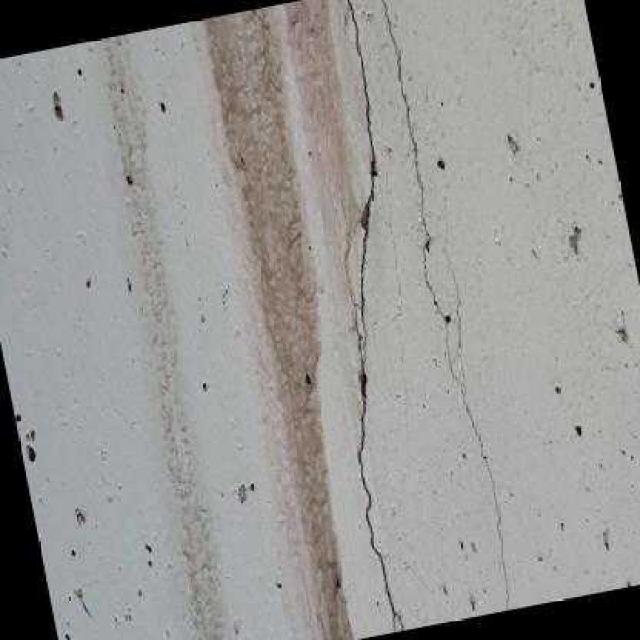D00: (375, 0, 514, 611), (344, 0, 404, 631)
